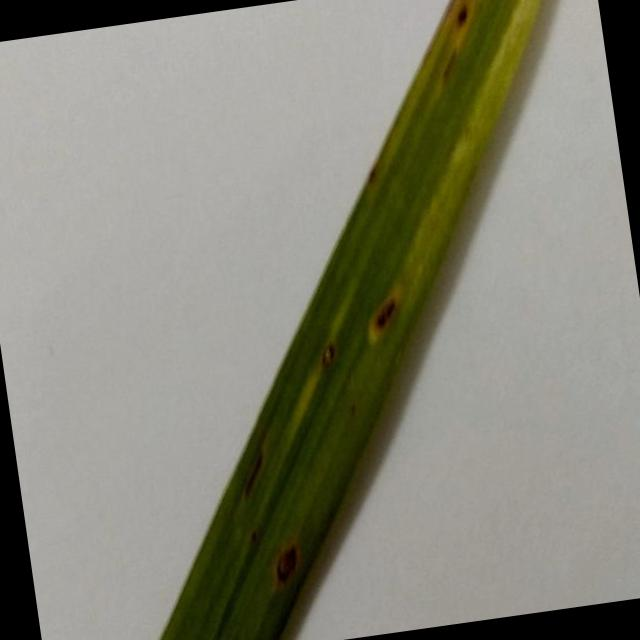Rice_Blast: (260, 524, 310, 594), (360, 282, 404, 348), (440, 0, 474, 31)
